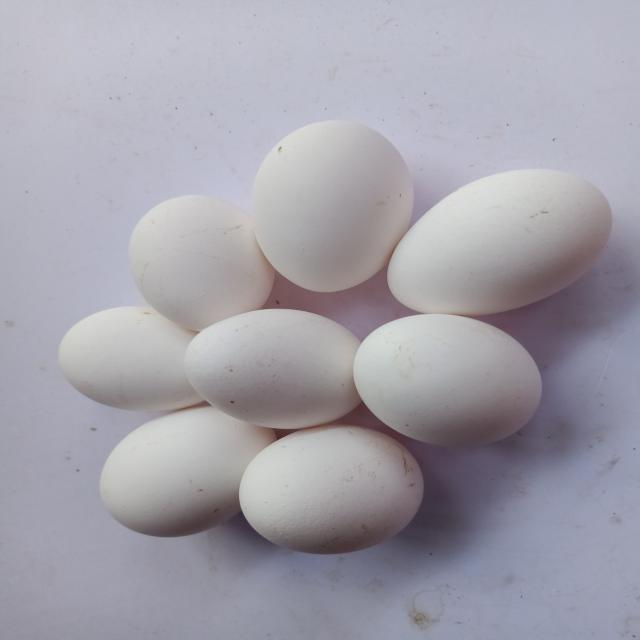Egg: (388, 169, 613, 316), (251, 120, 414, 292), (353, 314, 542, 446), (238, 425, 423, 555), (99, 407, 276, 538), (183, 309, 361, 429), (128, 195, 274, 331), (57, 306, 202, 411)
